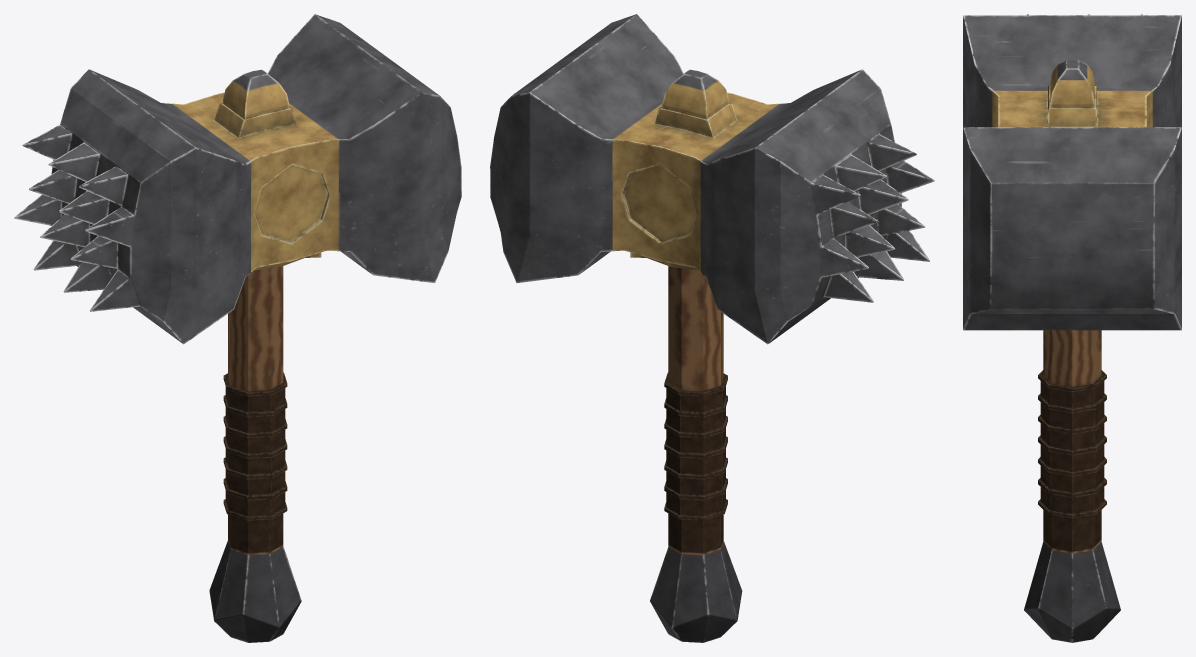
Rendered from Hammer_Game.fbx.
3 renders of one model, left to right at view 1: azimuth 30°, elevation 25°; view 2: azimuth 150°, elevation 25°; view 3: azimuth 270°, elevation 25°, orthographic.
Parts seen in each view (by area): view 1: Hammer_Game; view 2: Hammer_Game; view 3: Hammer_Game.
Part boxes in pixels (bbox=[...]): Hammer_Game: bbox=[14, 14, 461, 642]; Hammer_Game: bbox=[490, 14, 934, 642]; Hammer_Game: bbox=[963, 14, 1181, 642].
Bounding box in the file's own units: 0.5591 × 0.8 × 0.2797.
Materials: 1 (1 with a texture image).
